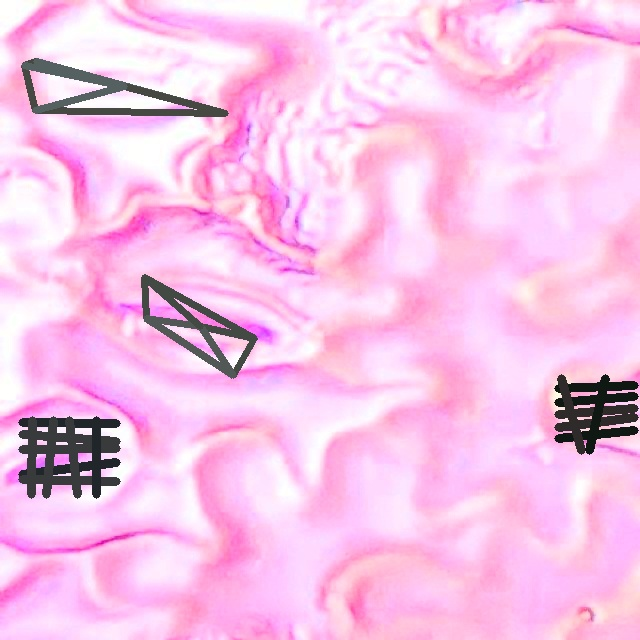close: (554, 375, 638, 453)
open: (143, 274, 257, 378), (21, 58, 228, 113), (18, 416, 120, 497)
